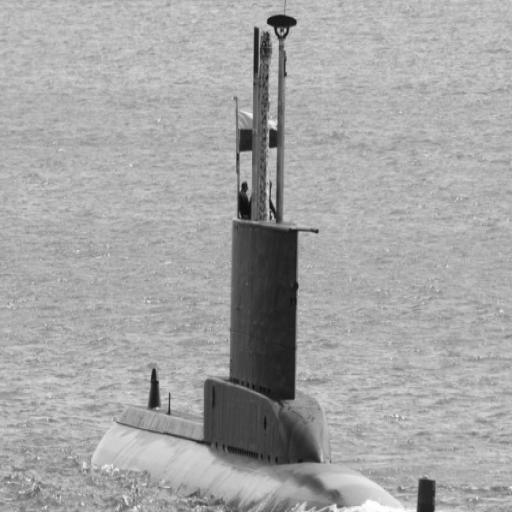submarine: (91, 14, 441, 512)
